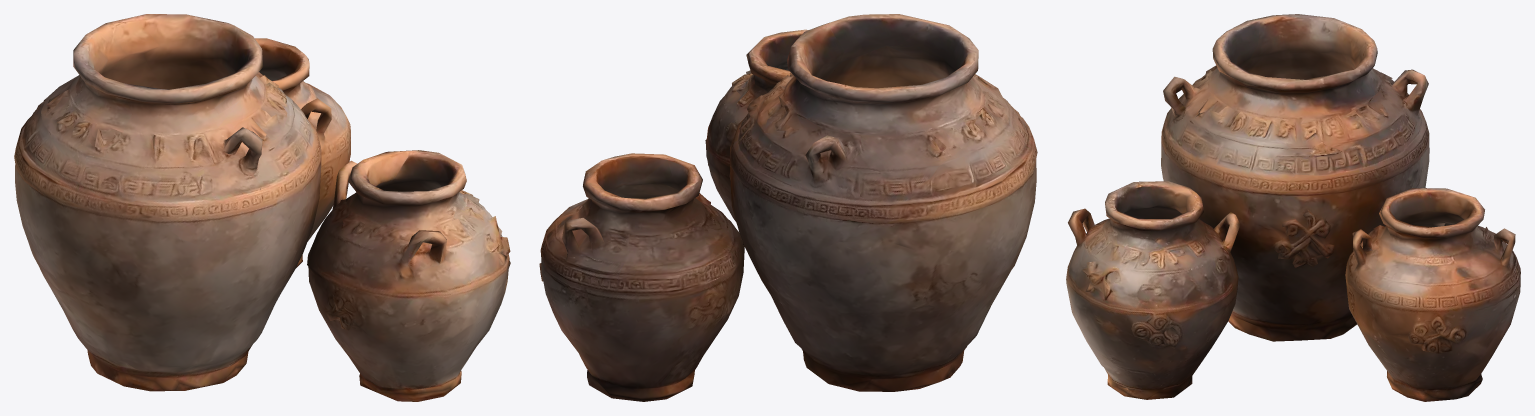
The model's file is jars.glb.
3 views of the same model, side by side, from view 1: azimuth 30°, elevation 25°; view 2: azimuth 150°, elevation 25°; view 3: azimuth 270°, elevation 25° (orthographic). The views are drawn at different scales.
Visible parts, largest first — view 1: tripo_node_0d751ed4-1128-4ce4-8974-6ec3eaafc015; view 2: tripo_node_0d751ed4-1128-4ce4-8974-6ec3eaafc015; view 3: tripo_node_0d751ed4-1128-4ce4-8974-6ec3eaafc015.
Part boxes in pixels (x1,y1,x2,y2): tripo_node_0d751ed4-1128-4ce4-8974-6ec3eaafc015: [14, 14, 510, 401]; tripo_node_0d751ed4-1128-4ce4-8974-6ec3eaafc015: [539, 14, 1037, 401]; tripo_node_0d751ed4-1128-4ce4-8974-6ec3eaafc015: [1066, 14, 1520, 401].
Size of the model in its own units: 0.8525 by 0.6472 by 1.
Materials: 1 (1 with a texture image).
